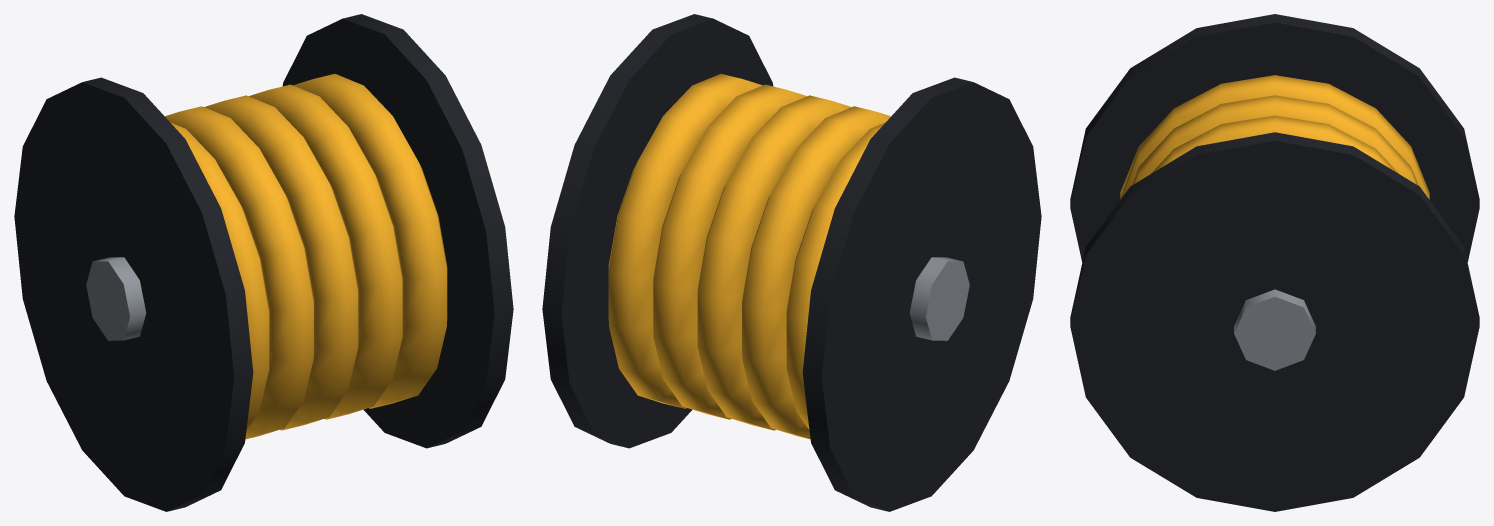
The model's file is crate_tall.glb.
The picture shows the model from 3 angles, left to right: view 1: azimuth 30°, elevation 25°; view 2: azimuth 150°, elevation 25°; view 3: azimuth 270°, elevation 25°; orthographic projection. The views are drawn at different scales.
Parts seen in each view (by area): view 1: crate_tall_mesh; view 2: crate_tall_mesh; view 3: crate_tall_mesh.
Boxes of the visible parts, x1,y1,x2,y2 form: crate_tall_mesh: (14,14,513,511); crate_tall_mesh: (542,14,1041,511); crate_tall_mesh: (1070,14,1479,511).
Bounding box in the file's own units: 0.982 × 1.2 × 1.2.
